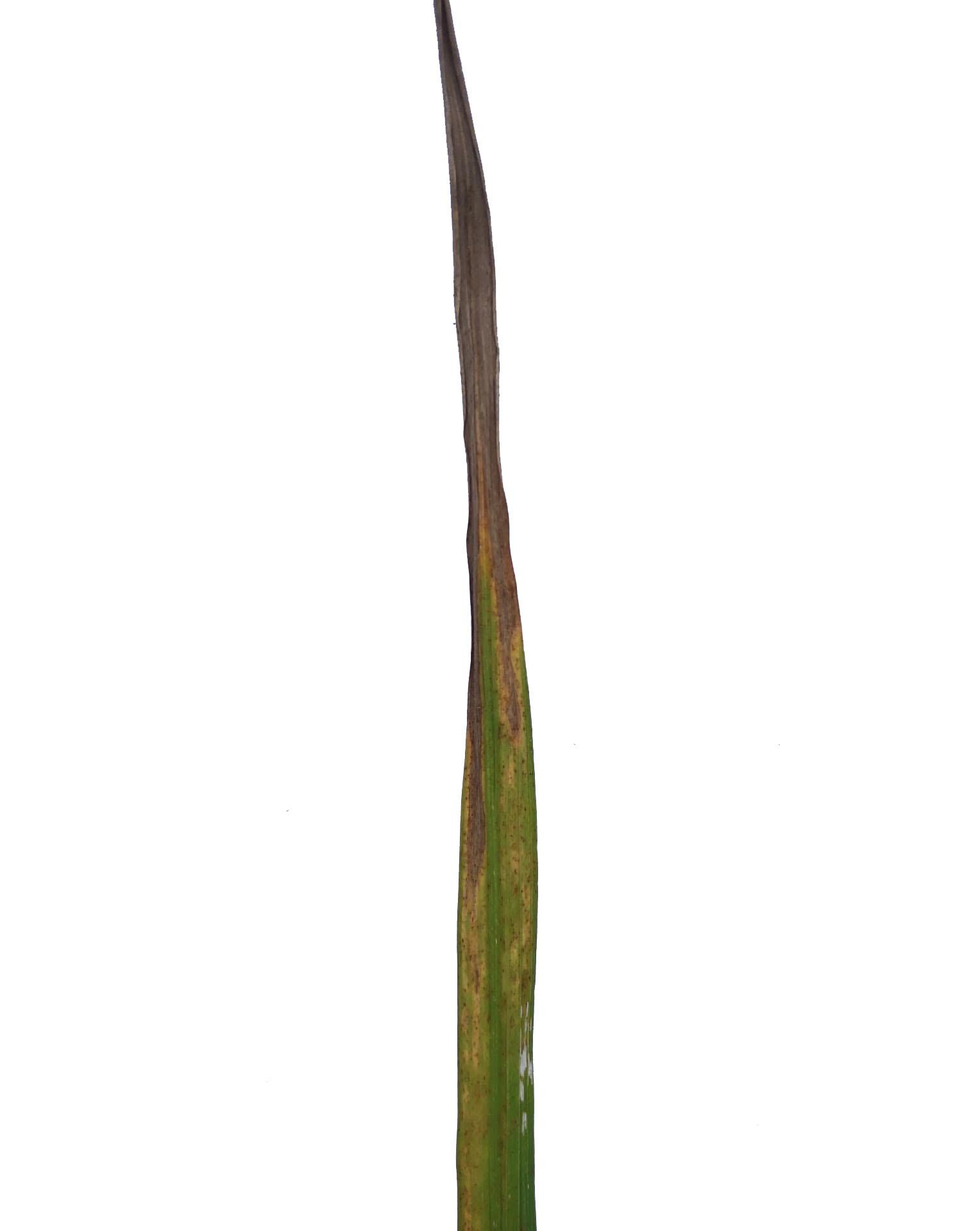Rice blast: (446, 0, 513, 664)
